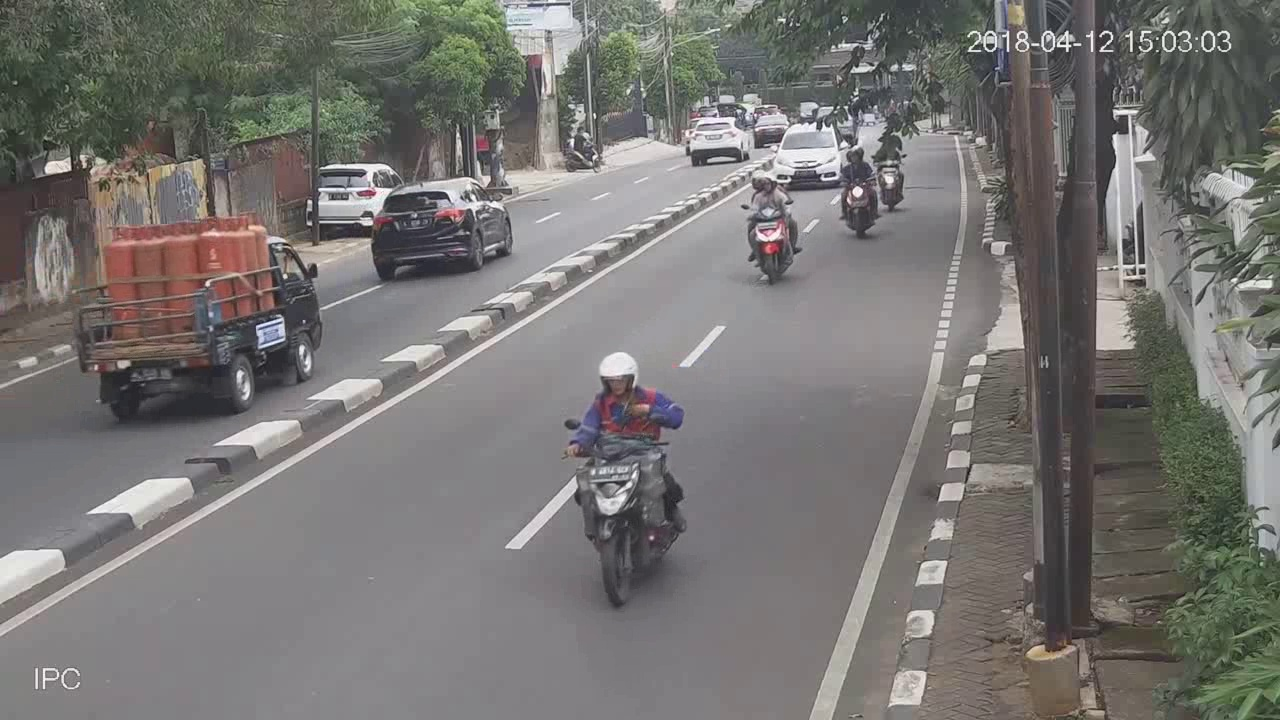car: (370, 178, 516, 280), (307, 157, 377, 235), (774, 123, 842, 191), (688, 111, 742, 166)
motorcycle: (553, 346, 692, 609), (735, 168, 808, 291), (872, 118, 916, 214), (838, 146, 878, 243)
truck: (65, 214, 327, 419)
